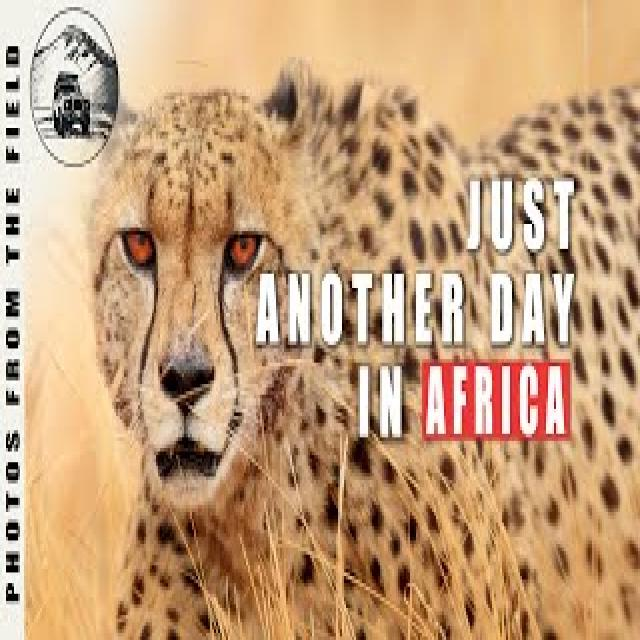Cheetah: (92, 67, 636, 640)
